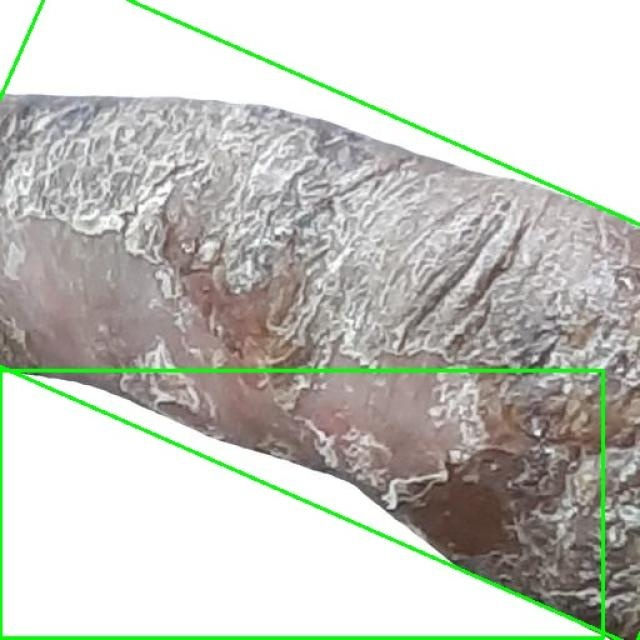Eczema: (0, 0, 640, 640), (0, 371, 604, 639)
